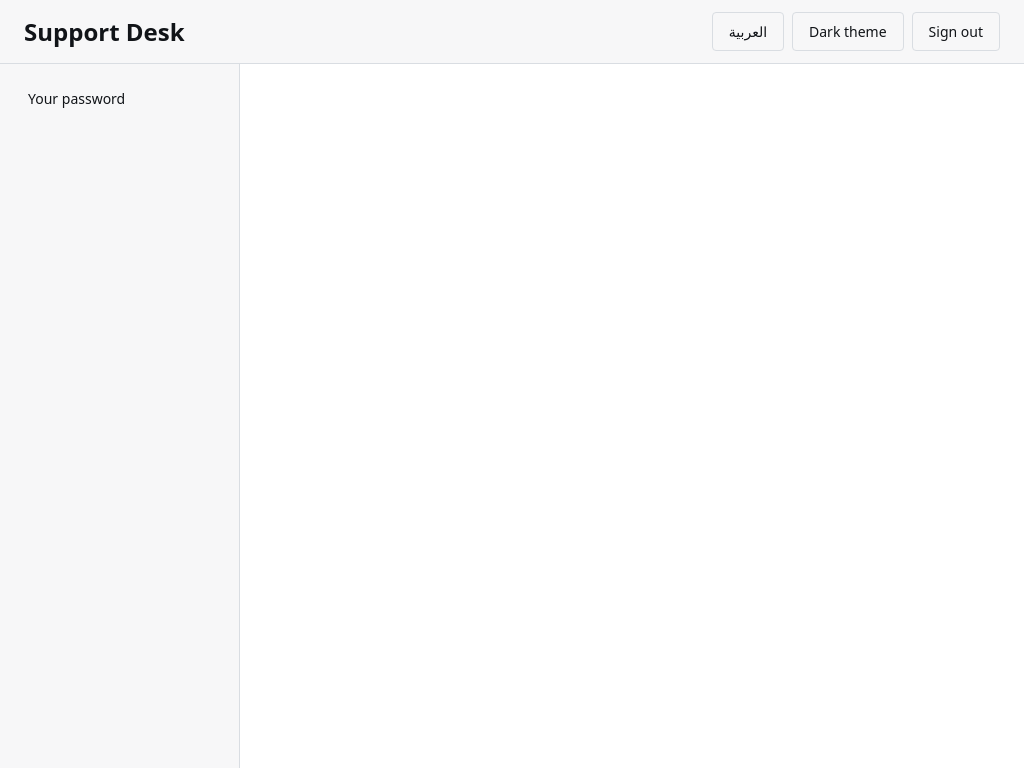
it: switching flips the text and the direction without a reload
Expected: the heading "Support Desk" is shown, 24,16 -> 184,46
Click the button "العربية". click: (748, 32)
box: 712,12 -> 784,51
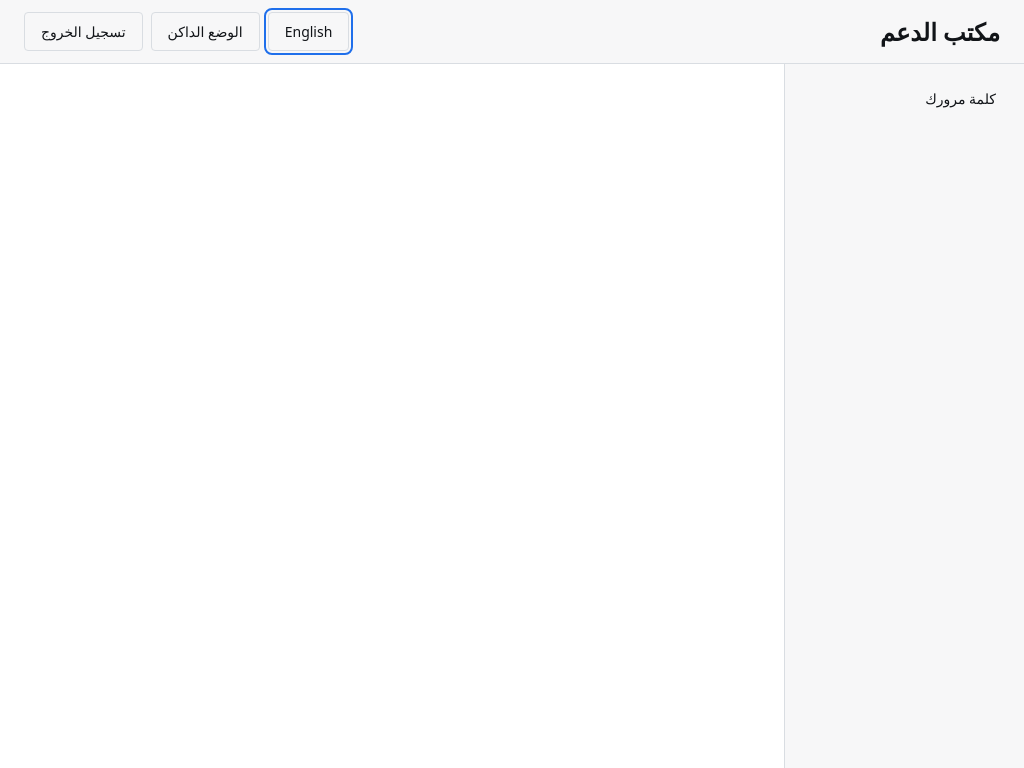
Now the heading "مكتب الدعم" is shown, box 880,16 -> 1000,46
Now the navigation bar named "التنقل الرئيسي" is shown, box 784,64 -> 1023,767
